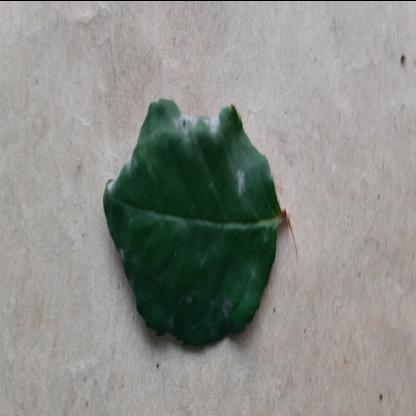powdery-mildew: (100, 90, 282, 359)
